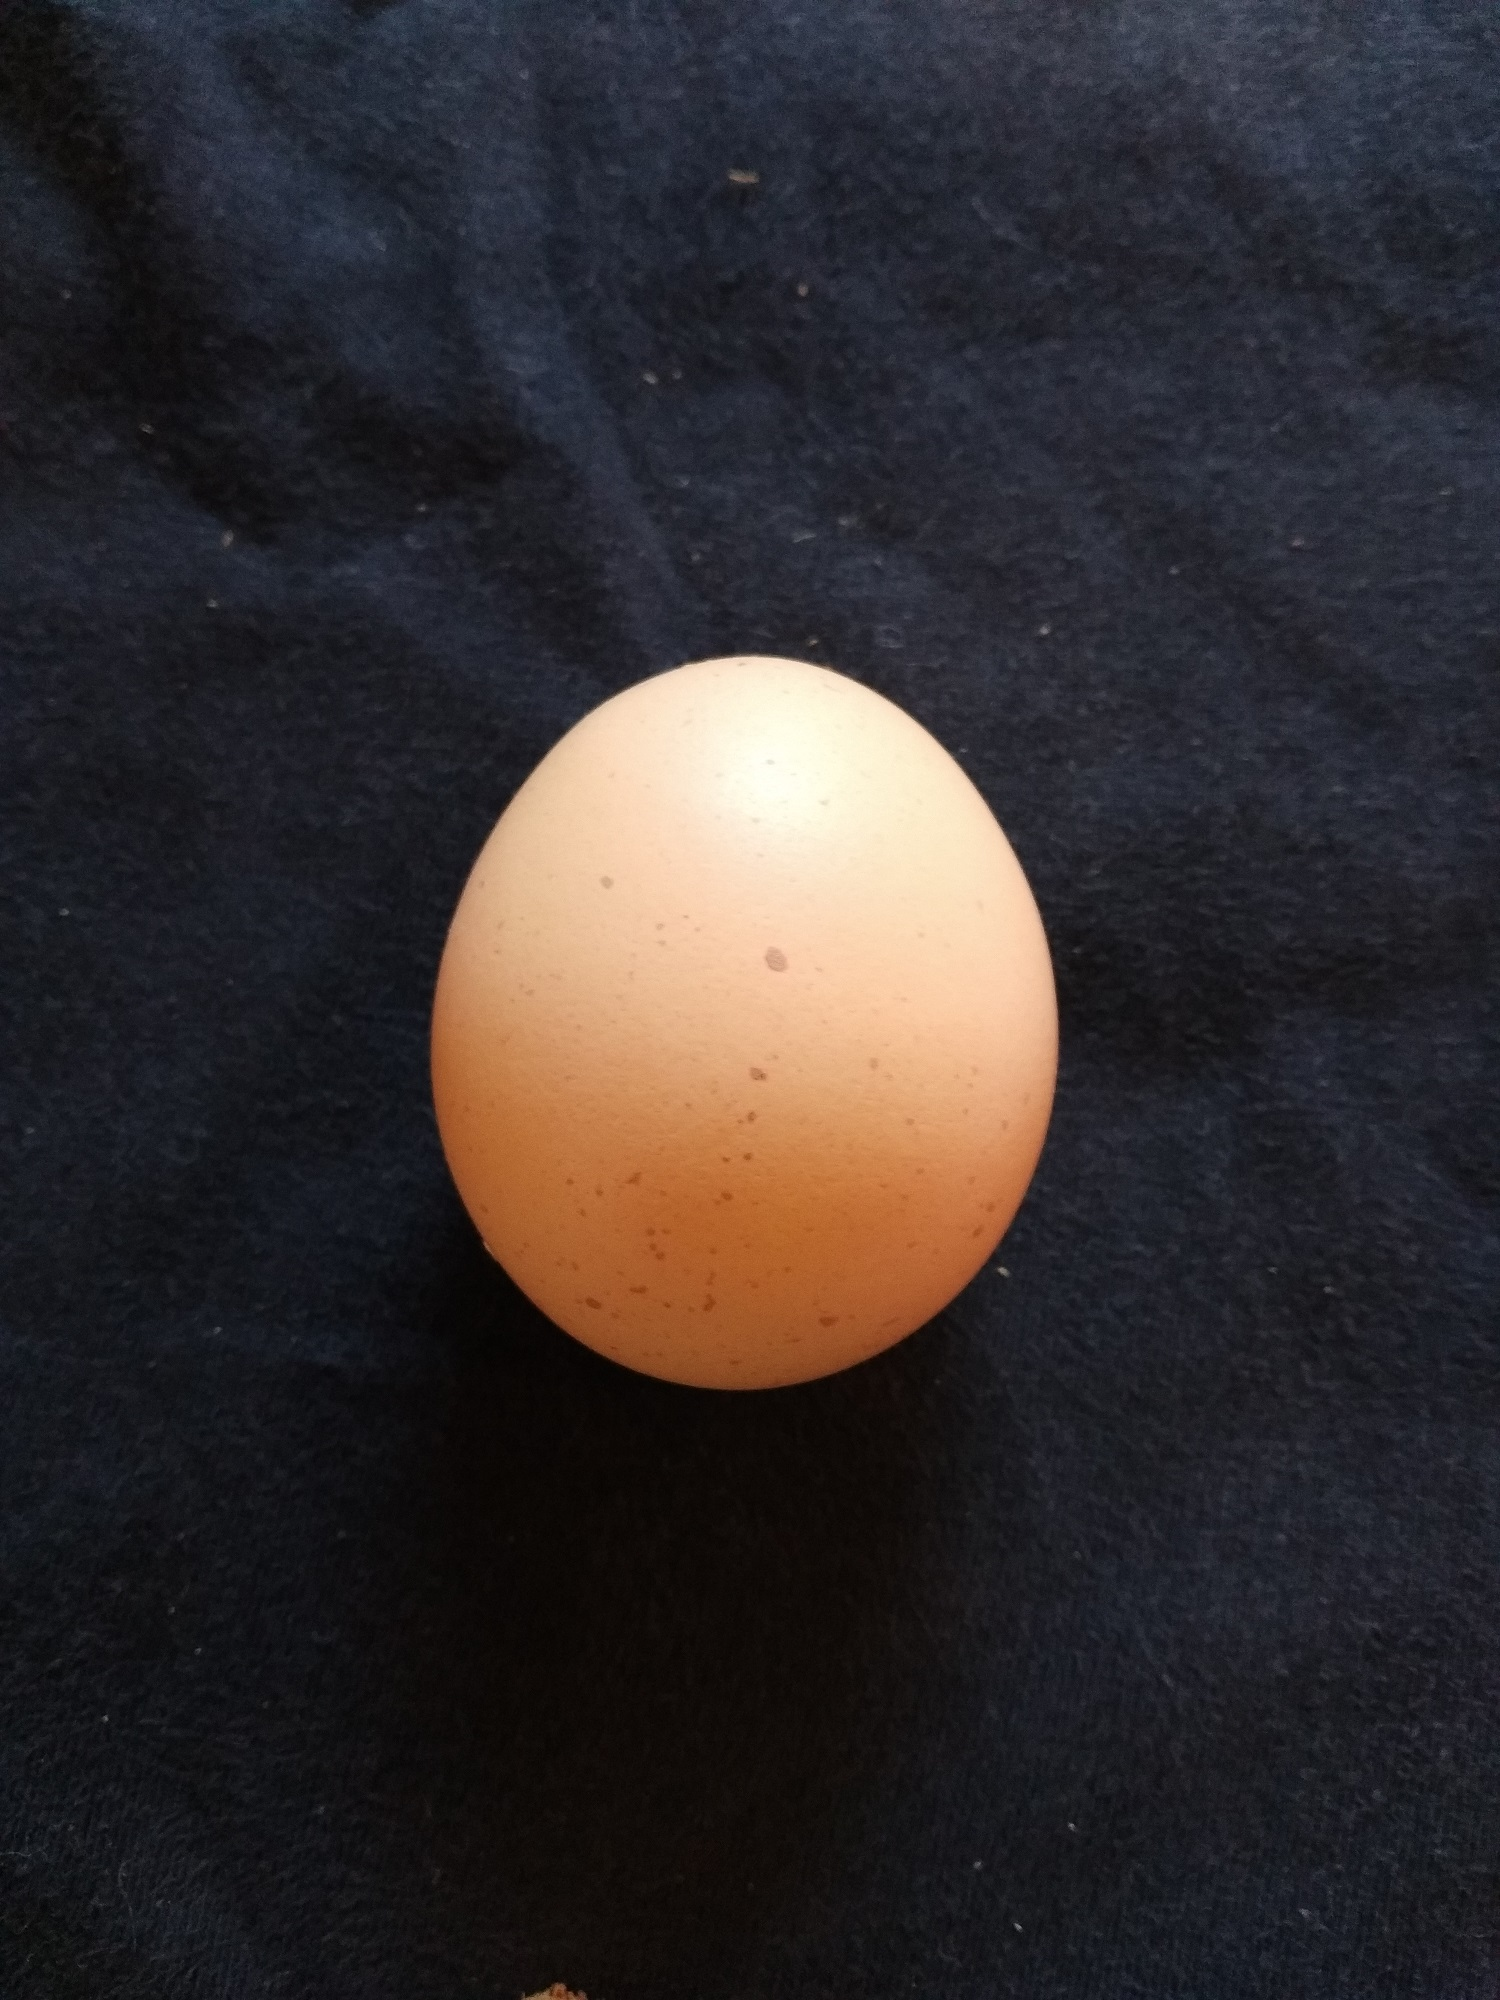Female: (419, 647, 1067, 1398)
